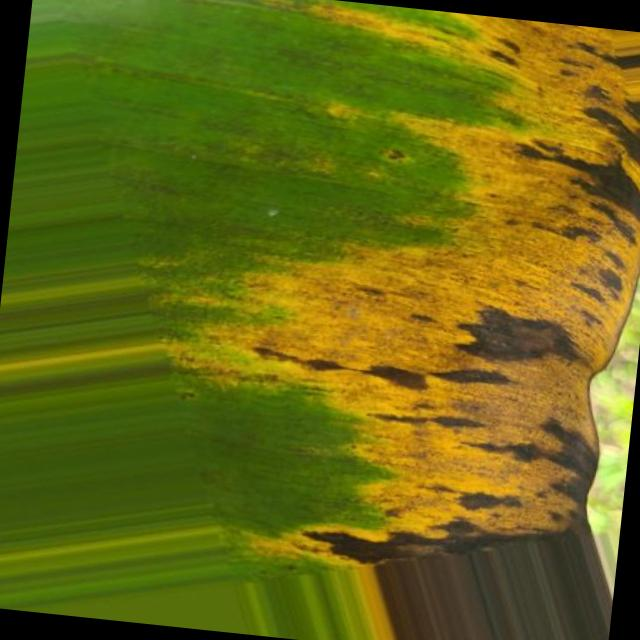Banana_Black_Sigatoka: (300, 3, 640, 576)
